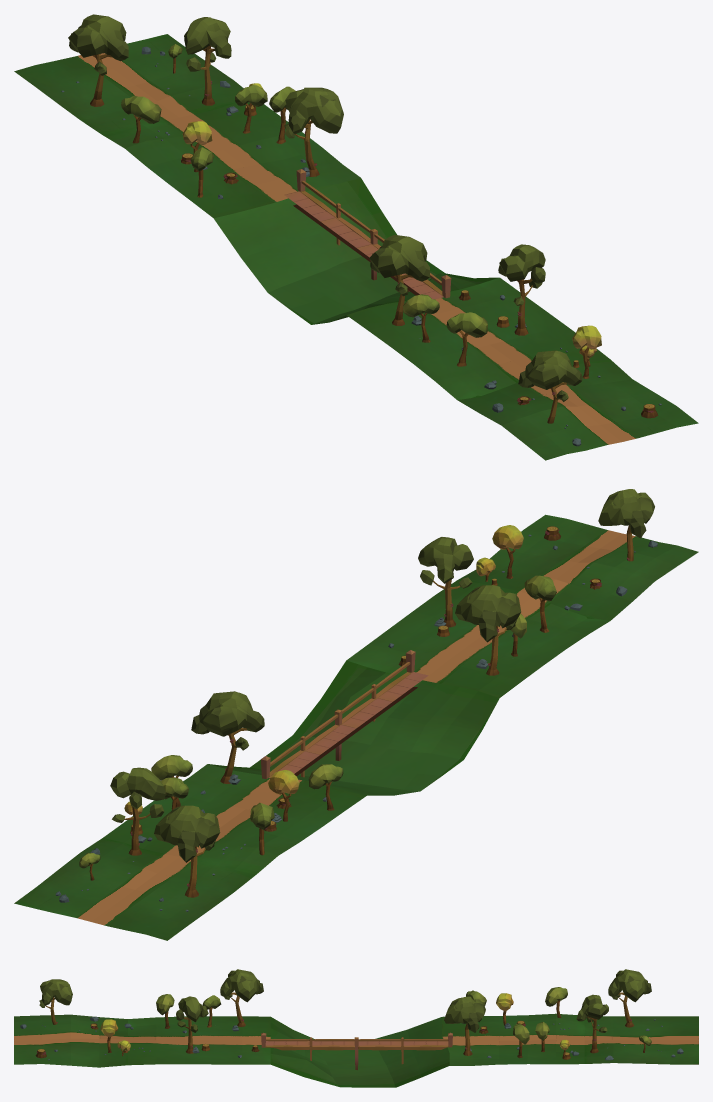
File: cenario2.fbx
3 views of the same model, one above another, from view 1: azimuth 30°, elevation 25°; view 2: azimuth 150°, elevation 25°; view 3: azimuth 270°, elevation 25° (orthographic). The views are drawn at different scales.
Parts seen in each view (by area): view 1: Arvore.005; view 2: Arvore.005; view 3: Arvore.005.
Boxes of the visible parts, box(x1,y1,x2,y2) form: Arvore.005: box(14, 14, 698, 460); Arvore.005: box(14, 489, 698, 940); Arvore.005: box(14, 969, 698, 1087).
Bounding box in the file's own units: 1000 × 780 × 6001.
